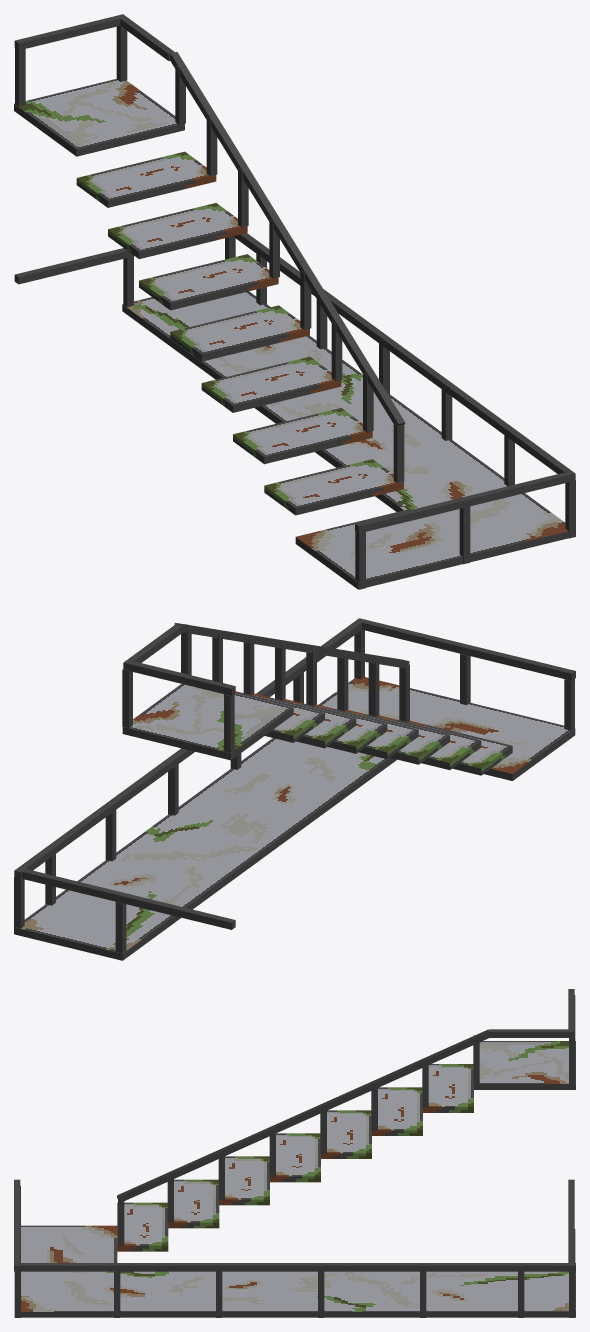
The model's file is Stairs.gltf.
The picture shows the model from 3 angles, top to bottom: view 1: azimuth 30°, elevation 25°; view 2: azimuth 150°, elevation 25°; view 3: azimuth 270°, elevation 25°; orthographic projection. The views are drawn at different scales.
Parts seen in each view (by area): view 1: cube (×16); view 2: cube (×16), cuboid (×16); view 3: cube (×15).
Part boxes in pixels (x1,y1,x2,y2): cube (×16): (14,14,575,589); cube (×16): (14,618,575,960); cuboid (×16): (14,624,574,953); cube (×15): (14,1029,575,1317).
Size of the model in its own units: 0.2508 by 0.329 by 0.6891.
Materials: 6 (6 with a texture image).
